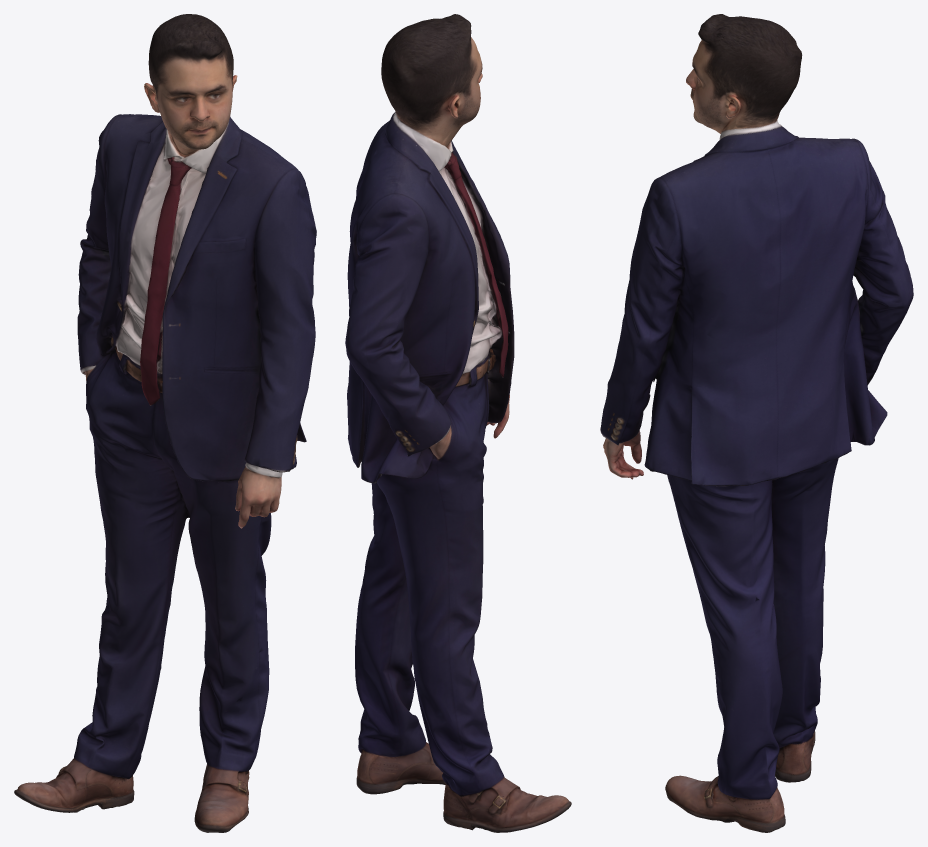
The model's file is rp_posed_00156_17.fbx.
The picture shows the model from 3 angles, left to right: view 1: azimuth 30°, elevation 25°; view 2: azimuth 150°, elevation 25°; view 3: azimuth 270°, elevation 25°; orthographic projection.
Visible parts, largest first — view 1: rp_posed_00156_17; view 2: rp_posed_00156_17; view 3: rp_posed_00156_17.
Part boxes in pixels (box(x1,y1,x2,y2)): rp_posed_00156_17: box(14, 14, 316, 832); rp_posed_00156_17: box(345, 14, 571, 832); rp_posed_00156_17: box(600, 14, 913, 832).
Size of the model in its own units: 57.65 by 176 by 63.78.
1 material, 1 textured.
